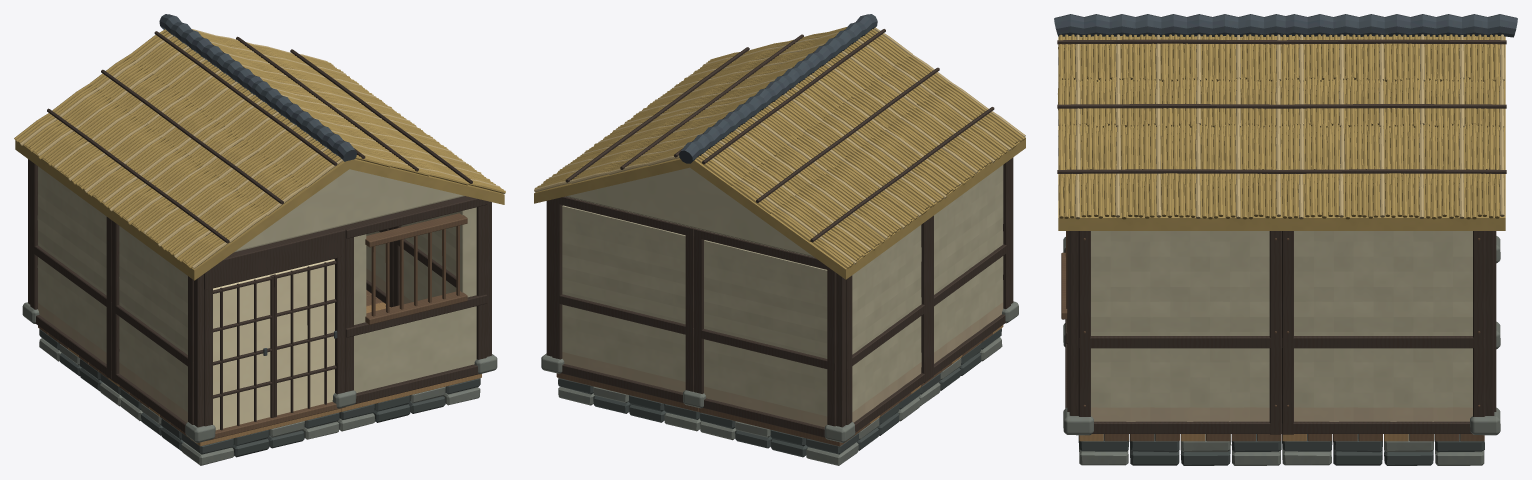
File: Assembly_VillageHome.glb
3 renders of one model, left to right at view 1: azimuth 30°, elevation 25°; view 2: azimuth 150°, elevation 25°; view 3: azimuth 270°, elevation 25°, orthographic. The views are drawn at different scales.
Parts seen in each view (by area): view 1: Example__AR_Roof_Thatch_2m, Example__AR_Wall_Window_2m, Example__AR_Roof_Thatch_2m.002, Example__AR_Wall_Plaster_2m.002, Example__AR_Wall_Plaster_2m.003, Example__AR_Door_Shoji_1m, Example__AR_Door_Shoji_1m.001, Example__AR_Roof_Thatch_2m.001, Example__AR_DoorFrame_2m, Example__AR_Gable_2m, Example__AR_Roof_Thatch_2m.003, Example__AR_StoneFoundation_2m (+11 smaller); view 2: Example__AR_Wall_Plaster_2m, Example__AR_Wall_Plaster_2m.001, Example__AR_Roof_Thatch_2m.002, Example__AR_Roof_Thatch_2m, Example__AR_Wall_Plaster_2m.003, Example__AR_Wall_Plaster_2m.002, Example__AR_Roof_Thatch_2m.003, Example__AR_Gable_2m.001, Example__AR_Roof_Thatch_2m.001, Example__AR_StoneFoundation_2m.001, Example__AR_StoneFoundation_2m.003, Example__AR_Roof_Ridge_2m.001 (+7 smaller); view 3: Example__AR_Roof_Thatch_2m.003, Example__AR_Roof_Thatch_2m.001, Example__AR_Wall_Plaster_2m.005, Example__AR_Wall_Plaster_2m.004, Example__AR_StoneFoundation_2m.003, Example__AR_StoneFoundation_2m.002, Example__AR_Roof_Ridge_2m.001, Example__AR_Roof_Ridge_2m, Example__AR_Post_2p4m.004, Example__AR_Post_2p4m.005, Example__AR_Floor_Plank_2m.003, Example__AR_Floor_Plank_2m.002 (+2 smaller).
Boxes of the visible parts, x1,y1,x2,y2 form: Example__AR_Roof_Thatch_2m: (104, 95, 349, 280); Example__AR_Wall_Window_2m: (345, 196, 487, 404); Example__AR_Roof_Thatch_2m.002: (14, 29, 253, 214); Example__AR_Wall_Plaster_2m.002: (111, 220, 193, 432); Example__AR_Wall_Plaster_2m.003: (30, 161, 111, 379); Example__AR_Door_Shoji_1m: (213, 274, 274, 430); Example__AR_Door_Shoji_1m.001: (272, 259, 337, 417); Example__AR_Roof_Thatch_2m.001: (281, 94, 505, 204); Example__AR_DoorFrame_2m: (204, 228, 345, 440); Example__AR_Gable_2m: (234, 169, 464, 252); Example__AR_Roof_Thatch_2m.003: (192, 29, 416, 126); Example__AR_StoneFoundation_2m: (120, 388, 339, 465); Example__AR_Wall_Plaster_2m: (694, 228, 836, 437); Example__AR_Wall_Plaster_2m.001: (552, 196, 694, 402); Example__AR_Roof_Thatch_2m.002: (690, 93, 935, 279); Example__AR_Roof_Thatch_2m: (786, 27, 1025, 213); Example__AR_Wall_Plaster_2m.003: (846, 219, 929, 432); Example__AR_Wall_Plaster_2m.002: (929, 159, 1010, 379); Example__AR_Roof_Thatch_2m.003: (534, 93, 756, 203); Example__AR_Gable_2m.001: (566, 167, 814, 257); Example__AR_Roof_Thatch_2m.001: (624, 26, 847, 124); Example__AR_StoneFoundation_2m.001: (700, 388, 920, 465); Example__AR_StoneFoundation_2m.003: (558, 378, 701, 431); Example__AR_Roof_Ridge_2m.001: (679, 80, 786, 163); Example__AR_Roof_Thatch_2m.003: (1281, 34, 1506, 230); Example__AR_Roof_Thatch_2m.001: (1057, 34, 1282, 230); Example__AR_Wall_Plaster_2m.005: (1282, 231, 1485, 434); Example__AR_Wall_Plaster_2m.004: (1078, 231, 1281, 434); Example__AR_StoneFoundation_2m.003: (1282, 434, 1484, 465); Example__AR_StoneFoundation_2m.002: (1078, 434, 1281, 465); Example__AR_Roof_Ridge_2m.001: (1281, 14, 1517, 37); Example__AR_Roof_Ridge_2m: (1054, 14, 1291, 36); Example__AR_Post_2p4m.004: (1063, 231, 1093, 435); Example__AR_Post_2p4m.005: (1470, 231, 1500, 435); Example__AR_Floor_Plank_2m.003: (1282, 434, 1484, 441); Example__AR_Floor_Plank_2m.002: (1079, 434, 1281, 441).
Size of the model in its own units: 4.48 by 3.98 by 4.56.
Materials: 15 (12 with a texture image).
